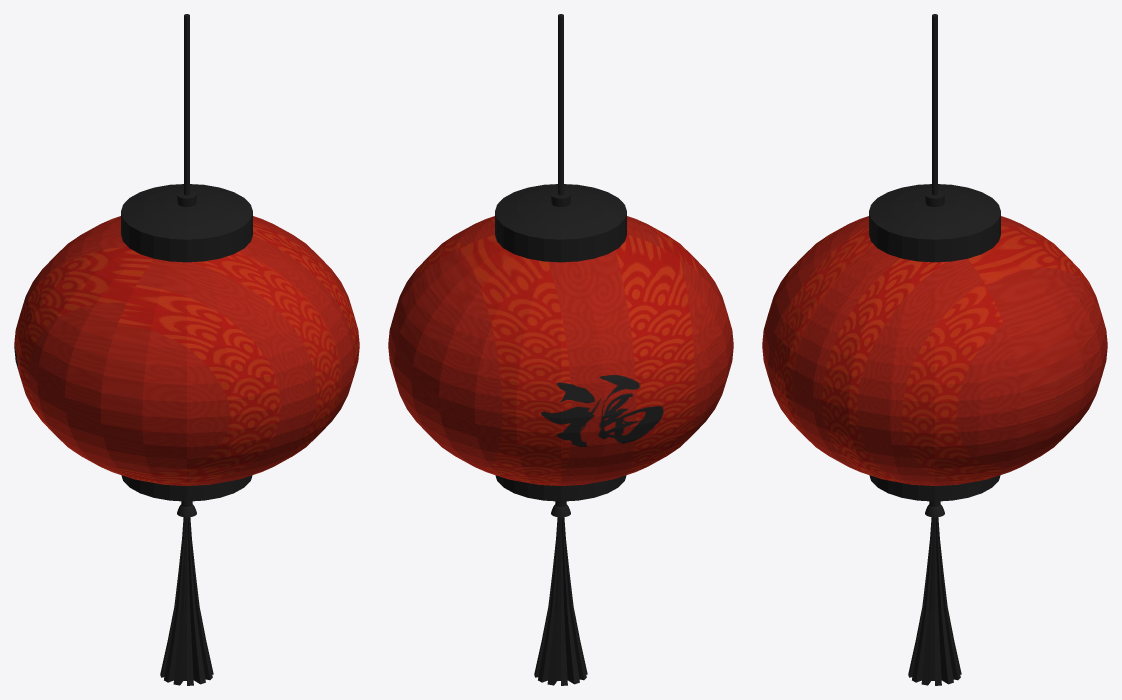
The model's file is latern.fbx.
The picture shows the model from 3 angles, left to right: view 1: azimuth 30°, elevation 25°; view 2: azimuth 150°, elevation 25°; view 3: azimuth 270°, elevation 25°; orthographic projection.
Parts seen in each view (by area): view 1: pSphere1; view 2: pSphere1; view 3: pSphere1.
Boxes of the visible parts, x1=… form: pSphere1: x1=14, y1=14, x2=359, y2=685; pSphere1: x1=388, y1=14, x2=733, y2=685; pSphere1: x1=762, y1=14, x2=1107, y2=685.
Bounding box in the file's own units: 66.77 × 141 × 66.77.
